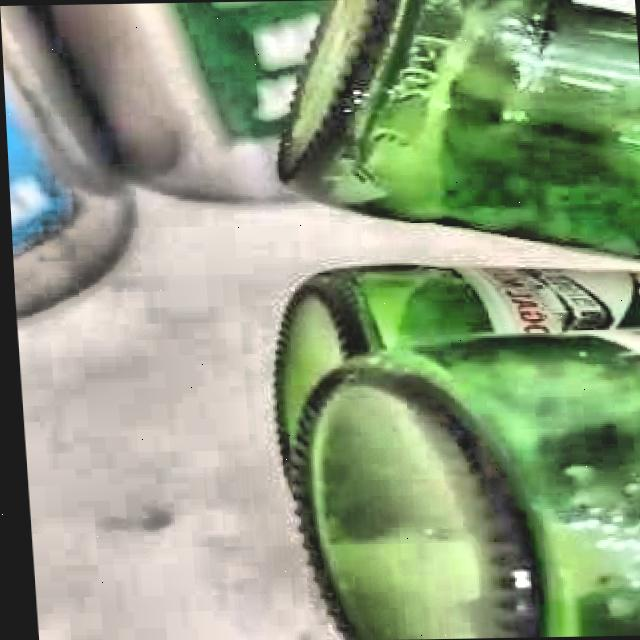glass: (271, 266, 640, 640)
